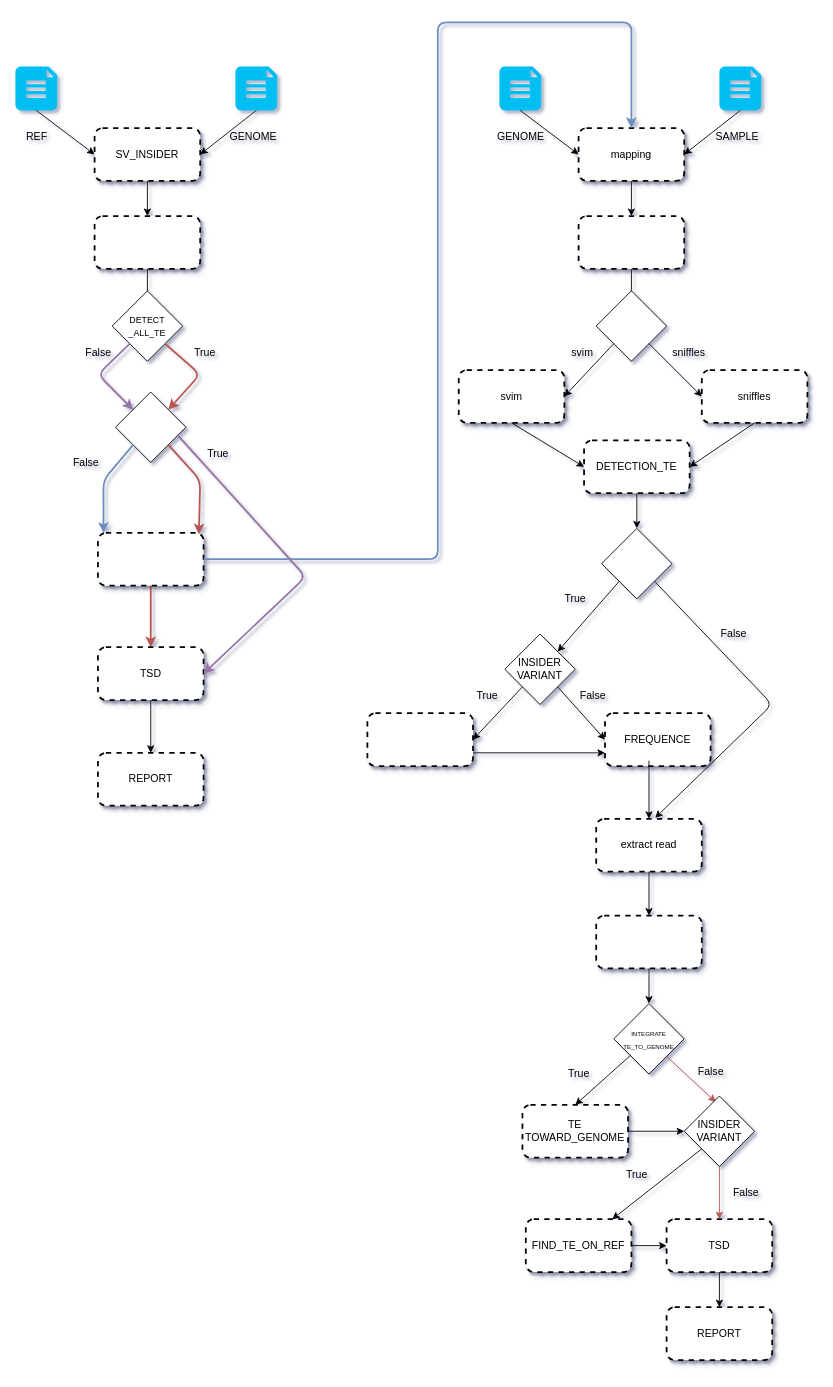
The diagram is 833 pixels wide and 1387 high, and some of its shapes have lost their labels. Each missing label, with the centre of its shape:
"FREQ_GLOBAL" goes at pixel 421 740.
"GET_SEQ_TE" goes at pixel 649 943.
"OPTMIEZED FREQUENCE" goes at pixel 636 563.
"OUTSIDER_ VARIANT" goes at pixel 150 426.
"samtools" goes at pixel 632 243.
"svim/sniffles" goes at pixel 631 325.
"TE_ALL_IN_ ASSEMBLY" goes at pixel 151 560.
"TE_INSIDER" goes at pixel 148 243.
